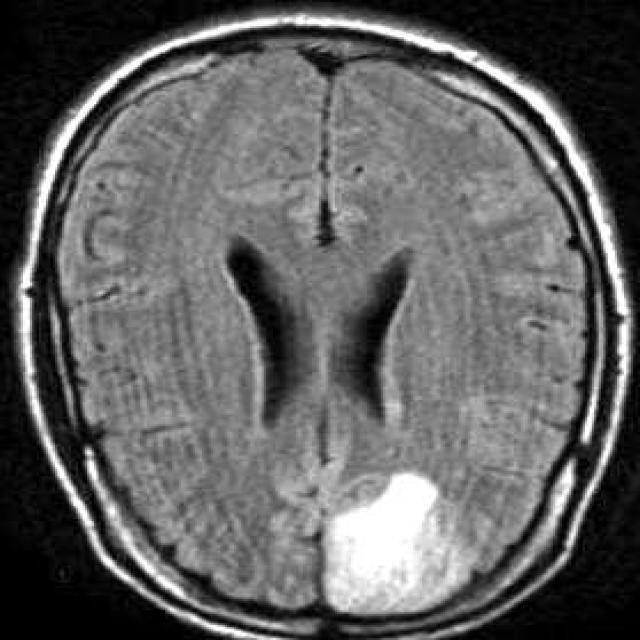brain tumor: (321, 471, 470, 614)
